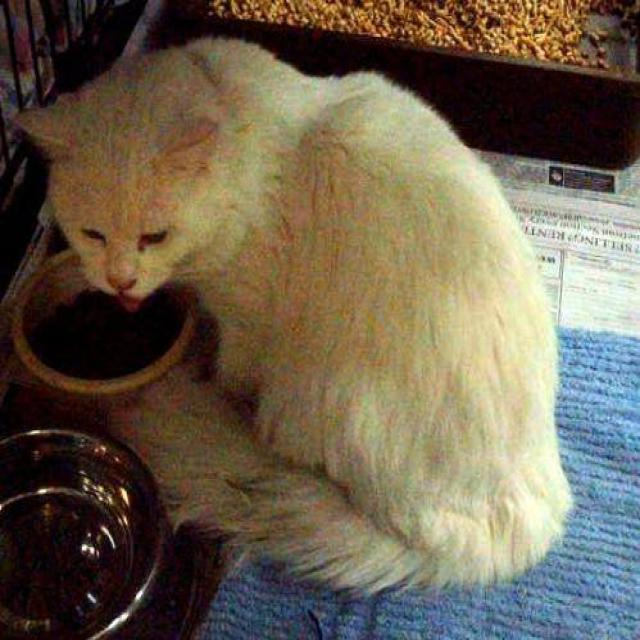cat: (13, 33, 573, 600)
